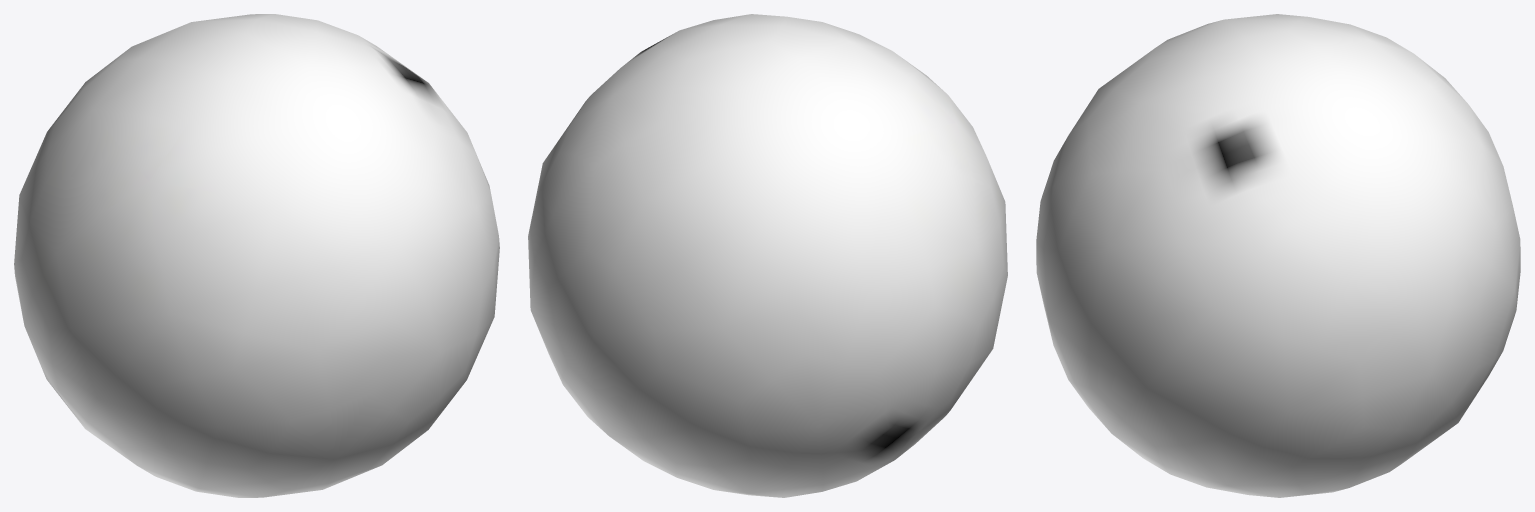
The model's file is ball.obj.
3 views of the same model, side by side, from view 1: azimuth 30°, elevation 25°; view 2: azimuth 150°, elevation 25°; view 3: azimuth 270°, elevation 25° (orthographic).
Visible parts, largest first — view 1: 10523_Pool_Table_v1_SG; view 2: 10523_Pool_Table_v1_SG; view 3: 10523_Pool_Table_v1_SG.
Part boxes in pixels (x1,y1,x2,y2): 10523_Pool_Table_v1_SG: (14, 14, 499, 497); 10523_Pool_Table_v1_SG: (528, 14, 1007, 497); 10523_Pool_Table_v1_SG: (1036, 14, 1520, 497).
Bounding box in the file's own units: 0.167 × 0.1676 × 0.1666.
1 material, 1 textured.
